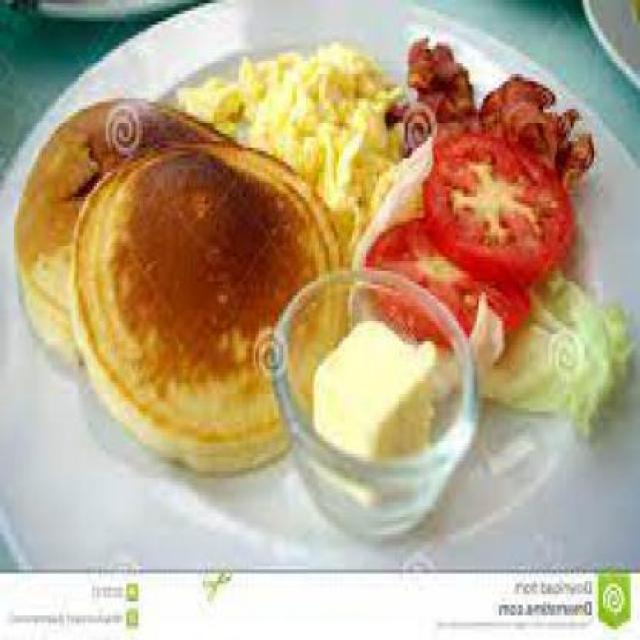omelette: (202, 35, 410, 179)
pancakes: (14, 102, 329, 476)
